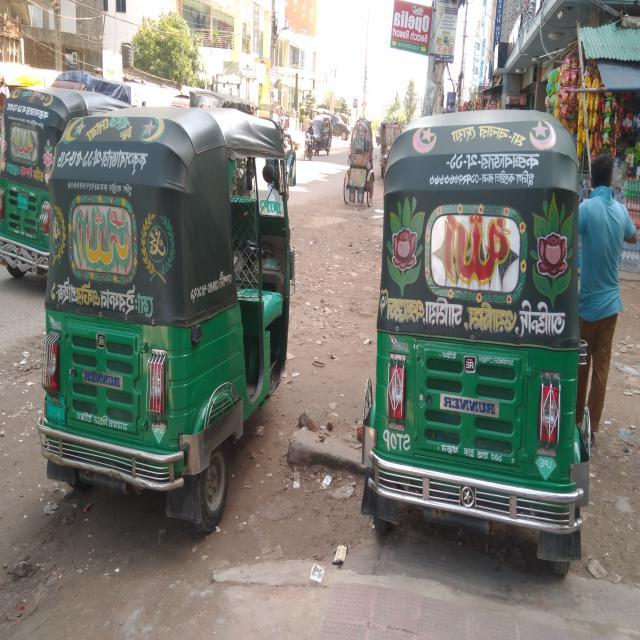CNG: (340, 84, 614, 573), (35, 105, 298, 527)
